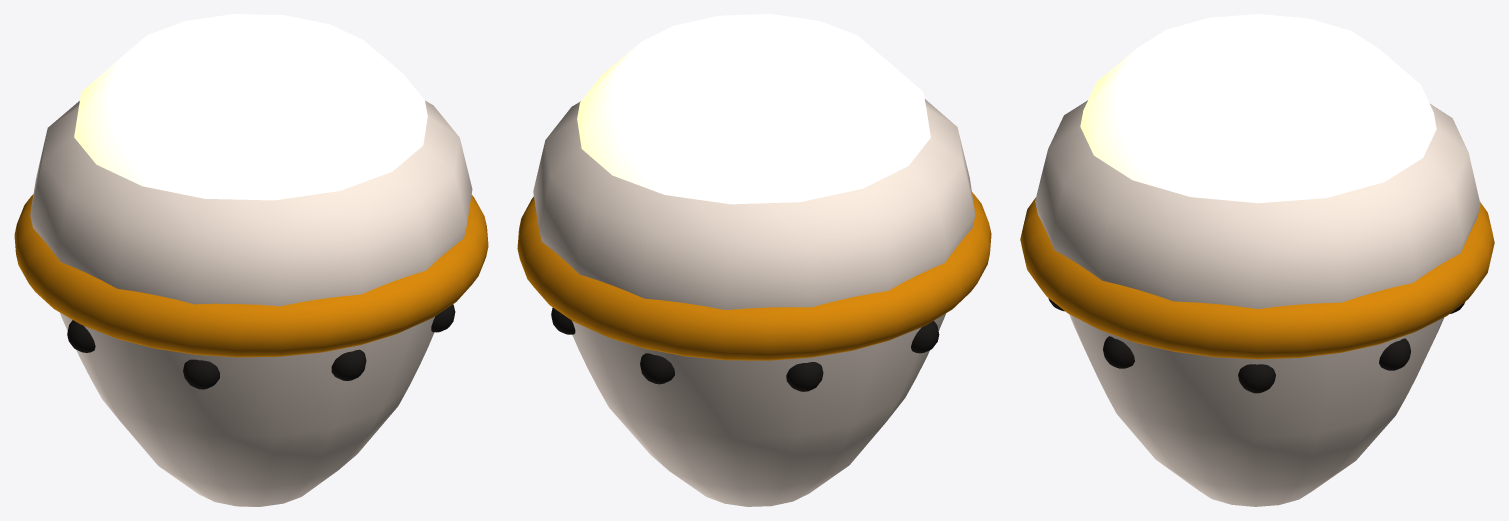
Rendered from LargeLight.fbx.
3 views of the same model, side by side, from view 1: azimuth 30°, elevation 25°; view 2: azimuth 150°, elevation 25°; view 3: azimuth 270°, elevation 25° (orthographic).
Parts seen in each view (by area): view 1: Body, LightEmissive, Lower; view 2: Body, LightEmissive, Lower; view 3: Body, LightEmissive, Lower.
Boxes of the visible parts, left/top/right/bottom form: Body: left=14, top=100, right=488, bottom=506; LightEmissive: left=74, top=14, right=427, bottom=200; Lower: left=67, top=304, right=455, bottom=389; Body: left=517, top=99, right=991, bottom=506; LightEmissive: left=577, top=14, right=930, bottom=204; Lower: left=551, top=307, right=939, bottom=391; Body: left=1020, top=100, right=1494, bottom=506; LightEmissive: left=1080, top=14, right=1436, bottom=203; Lower: left=1048, top=298, right=1464, bottom=393.
Bounding box in the file's own units: 3.17 × 3.26 × 3.17.
